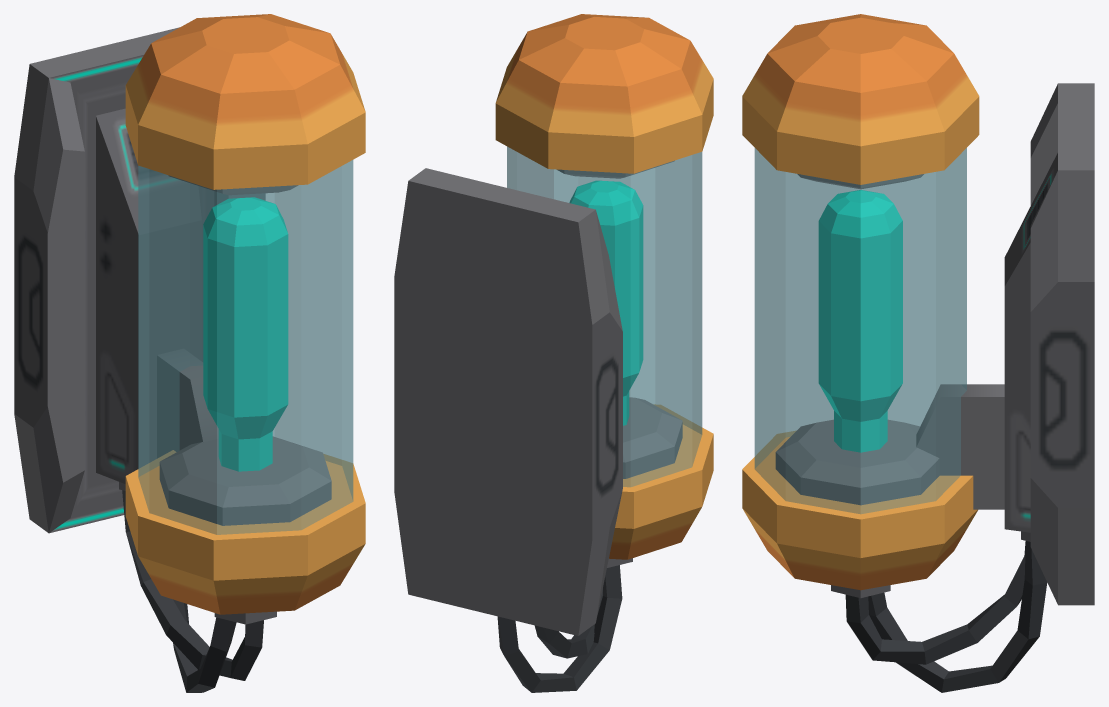
The model's file is SM_Prop_Lamp_04.fbx.
3 renders of one model, left to right at view 1: azimuth 30°, elevation 25°; view 2: azimuth 150°, elevation 25°; view 3: azimuth 270°, elevation 25°, orthographic. The views are drawn at different scales.
Parts seen in each view (by area): view 1: SM_Prop_Lamp_04; view 2: SM_Prop_Lamp_04; view 3: SM_Prop_Lamp_04.
Part boxes in pixels (left/top/right/bottom): SM_Prop_Lamp_04: left=14, top=14, right=365, bottom=692; SM_Prop_Lamp_04: left=394, top=14, right=713, bottom=692; SM_Prop_Lamp_04: left=742, top=14, right=1094, bottom=692.
Bounding box in the file's own units: 27.59 × 83.26 × 40.49.
